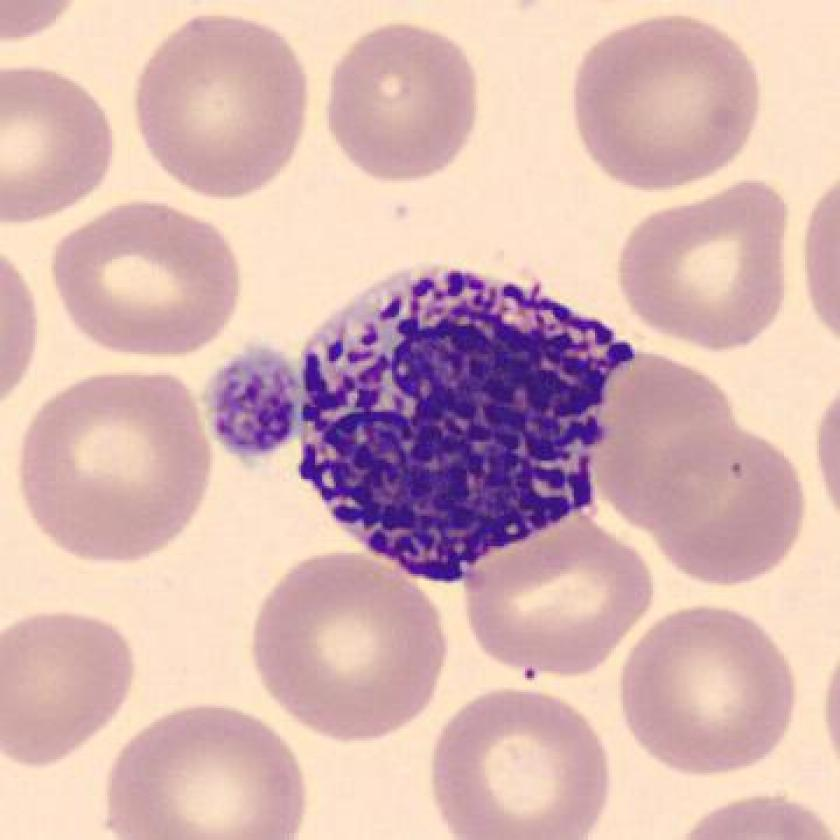basophil: (284, 256, 655, 589)
